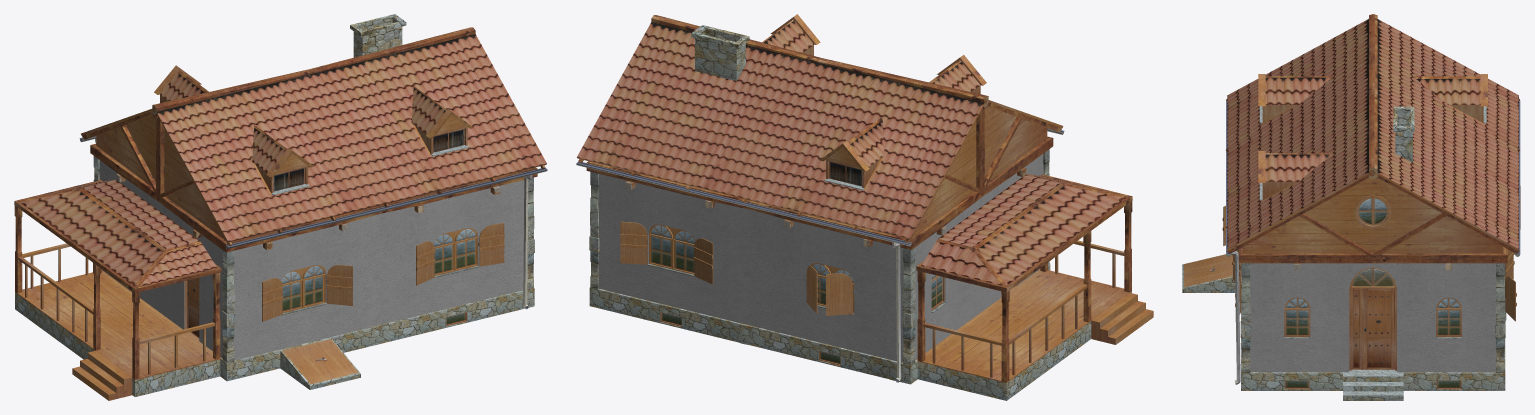
File: house.fbx
3 renders of one model, left to right at view 1: azimuth 30°, elevation 25°; view 2: azimuth 150°, elevation 25°; view 3: azimuth 270°, elevation 25°, orthographic. The views are drawn at different scales.
Visible parts, largest first — view 1: house; view 2: house; view 3: house.
Boxes of the visible parts, x1,y1,x2,y2 form: house: [14, 14, 547, 400]; house: [576, 14, 1153, 400]; house: [1182, 14, 1520, 400].
Size of the model in its own units: 819 by 430 by 555.
Materials: 1 (1 with a texture image).
